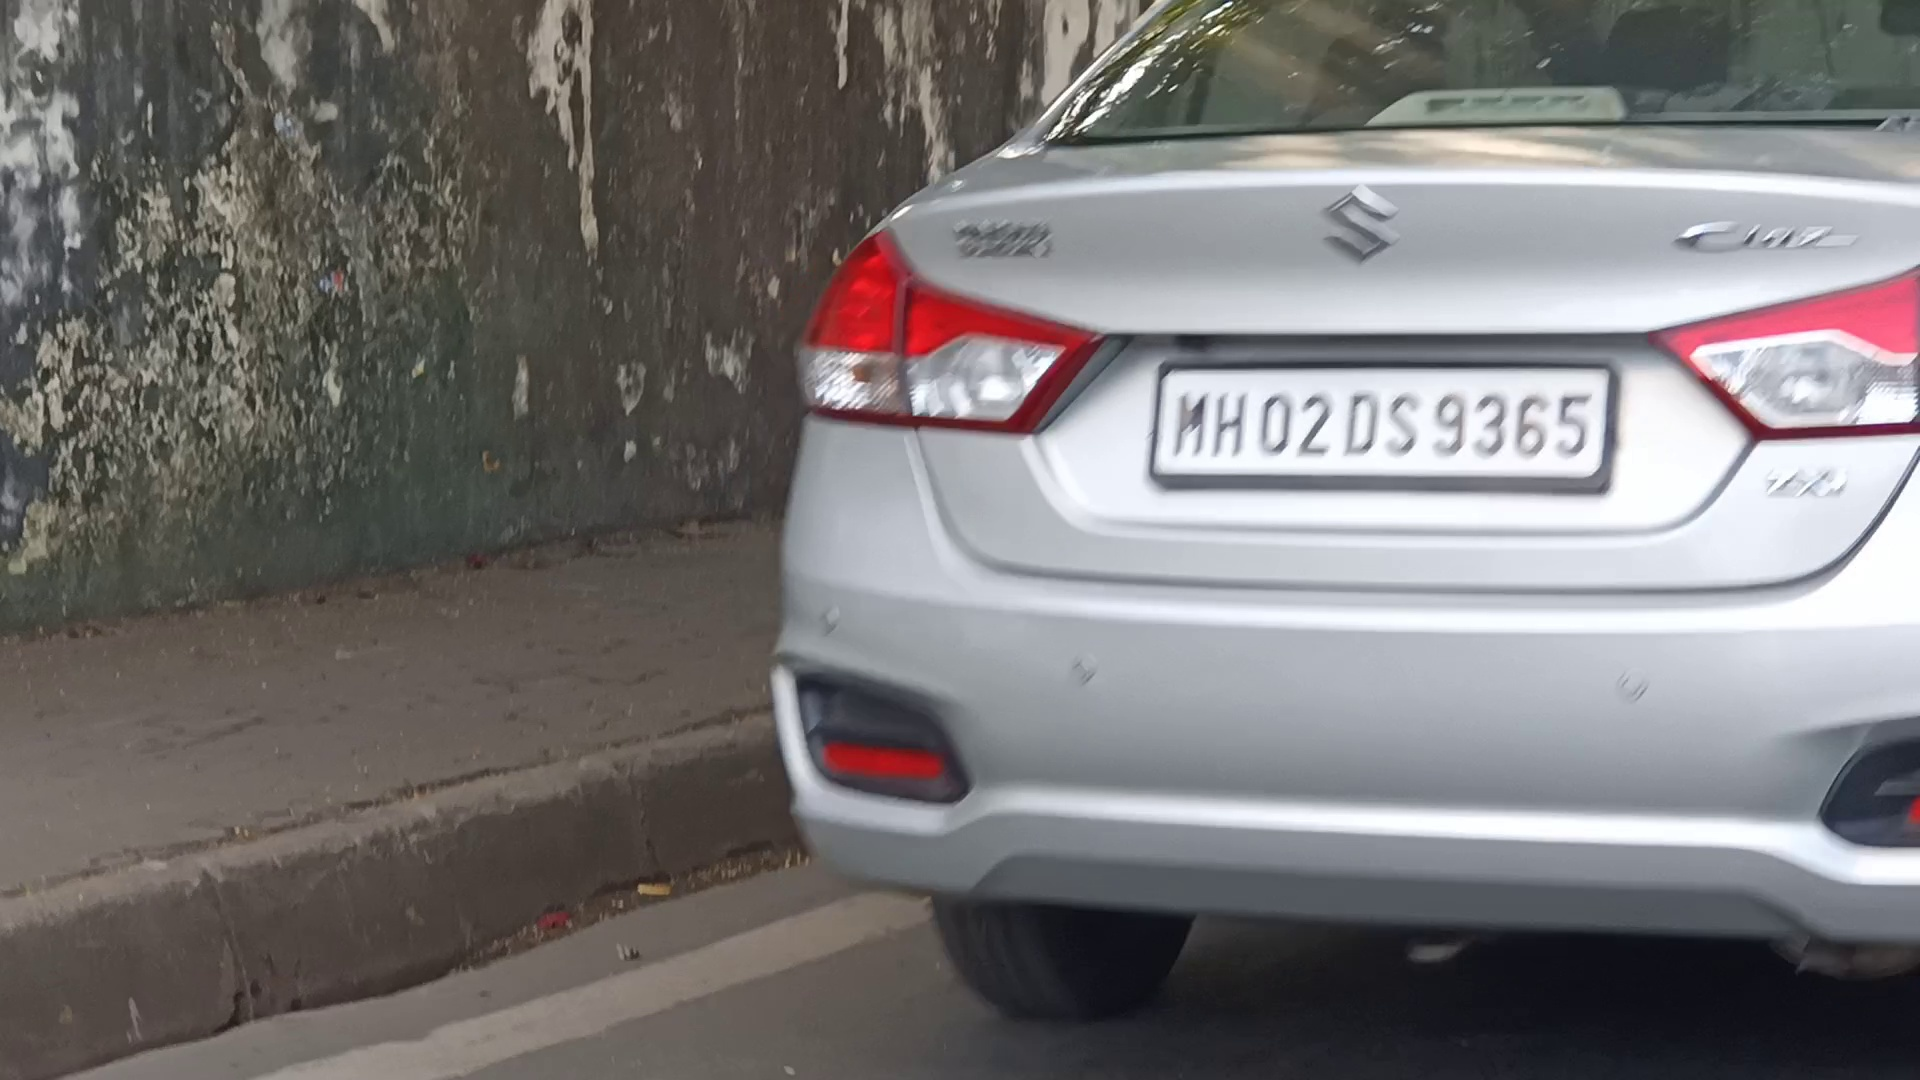MH02DS9365: (1151, 365, 1611, 479)
